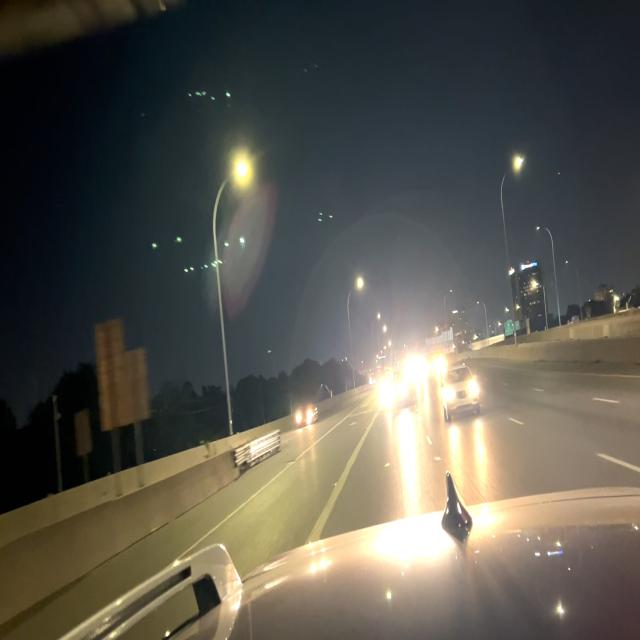back-of-sign: (94, 316, 151, 440)
